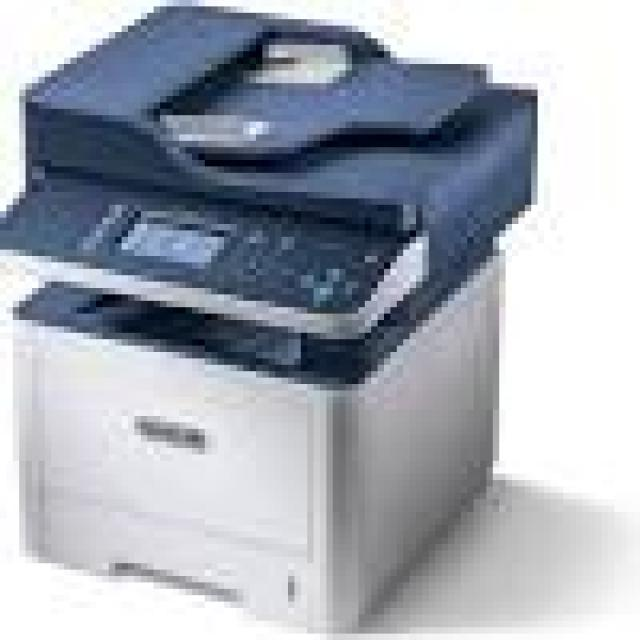printer: (0, 0, 561, 640)
